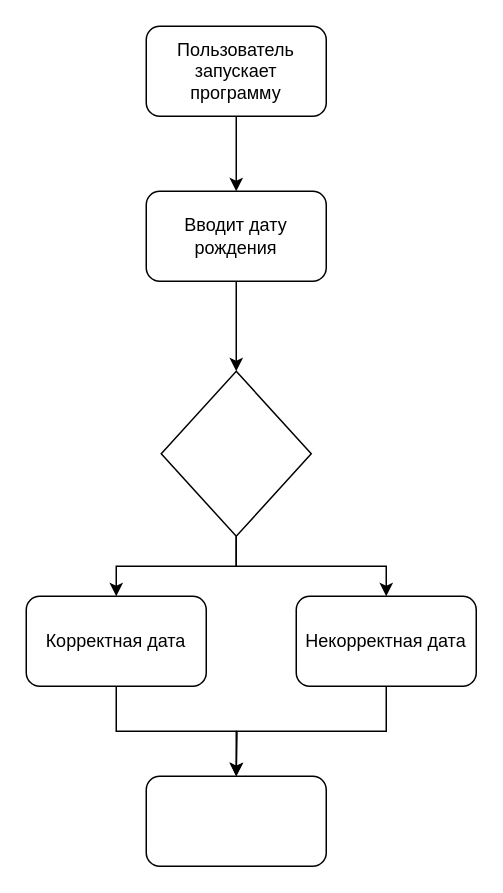
Some shapes in this 503 by 893 pixel diagram are drawn without their labels. Each missing label, with the centre of its shape:
"Выводит результат" goes at pixel 235 820.
"Проверяет возраст" goes at pixel 235 453.
